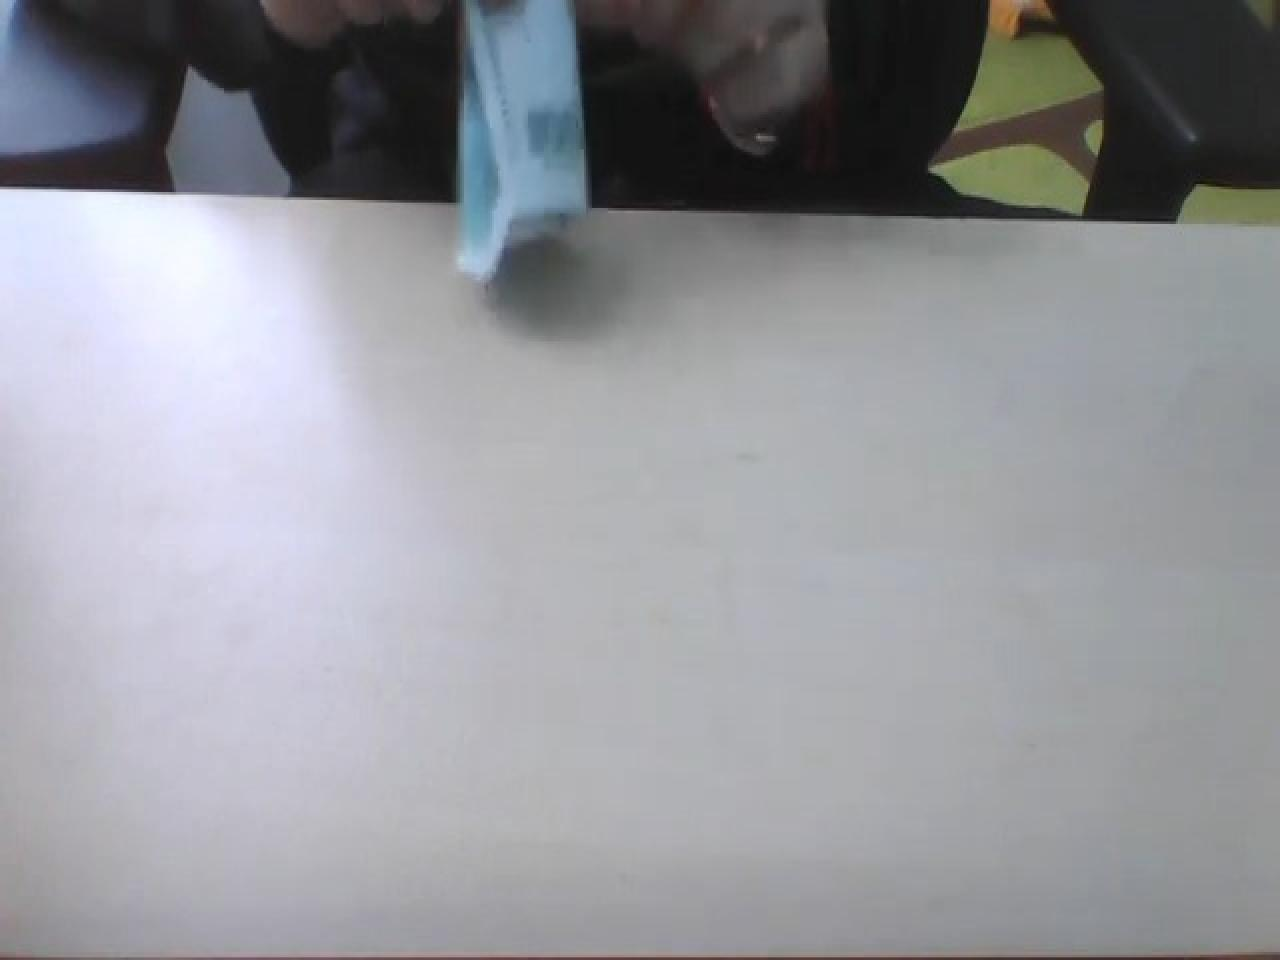100leva: (452, 0, 592, 282)
